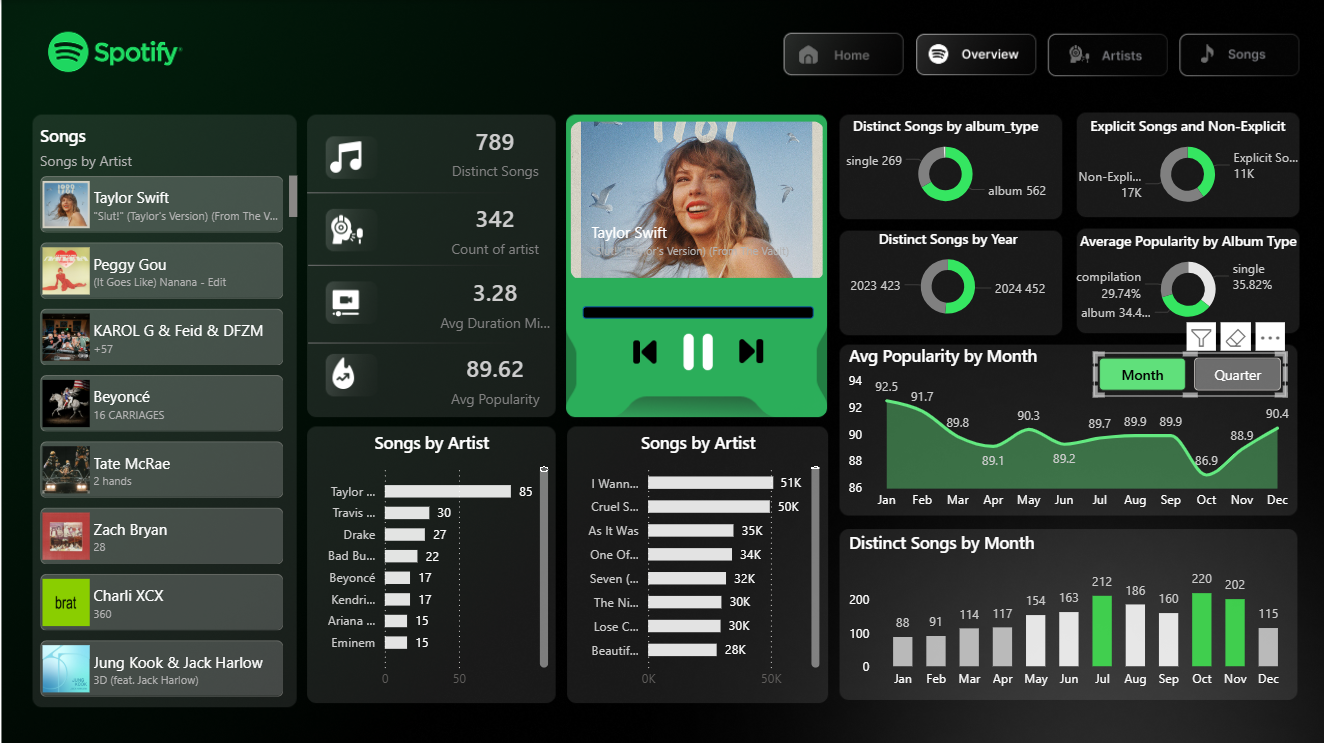

The dashboard page shown, as its layout file describes it:
{"tool":"powerbi","page":{"name":"Overview","canvas":[1280,720],"ordinal":0},"visuals":[{"type":"clusteredBarChart","title":"Songs by Artist","fields":{"Category":["Top-50-World.artist"],"Y":["_Measure.Distinct Songs"]},"box":[300.8,416.4,233.7,257.3],"z":0},{"type":"clusteredBarChart","title":"Songs by Artist","fields":{"Y":["Sum(Top-50-World.popularity)"],"Category":["Top-50-World.song"]},"box":[553.1,416.4,243.6,257.3],"z":1000},{"type":"areaChart","fields":{"Category":["Top-50-World.Month"],"Y":["_Measure.Avg Popularity"]},"box":[814.1,331.9,437.5,169],"z":2000},{"type":"advancedSlicerVisual","fields":{"Values":["Slicer.Slicer"]},"box":[1055.3,340.6,186.4,42.3],"z":3000},{"type":"donutChart","fields":{"Y":["_Measure.Distinct Songs"],"Category":["Top-50-World.album_type"]},"box":[793.8,112.2,237.7,94.1],"z":4000},{"type":"donutChart","title":"Explicit Songs and Non-Explicit","fields":{"Y":["_Measure.Explicit Songs","_Measure.Non-Explicit Songs"]},"box":[1031,111.9,229.8,94.8],"z":5000},{"type":"donutChart","fields":{"Y":["_Measure.Distinct Songs"],"Category":["Top-50-World.Year"]},"box":[796.3,220.8,237.7,94.1],"z":6000},{"type":"donutChart","title":"Average Popularity by Album Type","fields":{"Category":["Top-50-World.album_type"],"Y":["_Measure.Avg Popularity"]},"box":[1032.2,223.7,228.6,94.8],"z":7000},{"type":"columnChart","fields":{"Category":["Top-50-World.Month"],"Y":["_Measure.Distinct Songs"]},"box":[814.6,513.1,437.7,160.5],"z":8000},{"type":"card","fields":{"Values":["_Measure.Distinct Songs"]},"box":[419,112.2,117,68],"z":9000},{"type":"card","fields":{"Values":["_Measure.Avg Popularity"]},"box":[419,331.8,117,68],"z":10000},{"type":"card","fields":{"Values":["_Measure.Avg Duration Minutes"]},"box":[419,258.2,117,68],"z":11000},{"type":"card","fields":{"Values":["Count(Top-50-World.artist)"]},"box":[419,187,117,68],"z":12000},{"type":"image","box":[321,345,30,30],"z":13000},{"type":"image","box":[318.5,277.5,30,30],"z":14000},{"type":"image","box":[320,206,30,30],"z":15000},{"type":"image","box":[318,136,30.2,30.2],"z":16000},{"type":"advancedSlicerVisual","title":"Songs","fields":{"Values":["Top-50-World.song"]},"box":[32.6,115.8,259.4,568.2],"z":17000},{"type":"advancedSlicerVisual","title":"Songs","fields":{"Values":["Top-50-World.song"]},"box":[523.6,112.2,296.8,162.9],"z":18000},{"type":"image","box":[603.2,326.9,38.6,25.3],"z":19000},{"type":"shape","box":[562.2,295.6,223.2,12.1],"z":20000},{"type":"image","box":[586.3,325.7,277.5,26.5],"z":21000},{"type":"image","box":[644.2,322.1,59.1,35],"z":22000},{"type":"shape","box":[552.5,112.2,241.3,283.5],"z":23000},{"type":"actionButton","box":[757.6,31.4,113.4,39.8],"z":24000},{"type":"actionButton","box":[883.8,32.3,117,39.8],"z":25000},{"type":"actionButton","box":[1012.9,32.3,115.8,39.8],"z":26000},{"type":"actionButton","box":[1139.6,33.5,114.6,39.8],"z":27000}]}

Visuals, with their boxes in screenshot pixels (x1, y1, x2, y2), scaled from the page's 1280x720 canvas onto the 1324x743 screenshot:
"Songs by Artist" clusteredBarChart: BBox(311, 430, 553, 695)
"Songs by Artist" clusteredBarChart: BBox(572, 430, 824, 695)
areaChart - Top-50-World.Month x _Measure.Avg Popularity: BBox(842, 343, 1295, 517)
advancedSlicerVisual - Slicer.Slicer: BBox(1092, 351, 1284, 395)
donutChart - _Measure.Distinct Songs x Top-50-World.album_type: BBox(821, 116, 1067, 213)
"Explicit Songs and Non-Explicit" donutChart: BBox(1066, 115, 1304, 213)
donutChart - _Measure.Distinct Songs x Top-50-World.Year: BBox(824, 228, 1070, 325)
"Average Popularity by Album Type" donutChart: BBox(1068, 231, 1304, 329)
columnChart - Top-50-World.Month x _Measure.Distinct Songs: BBox(843, 529, 1295, 695)
card - _Measure.Distinct Songs: BBox(433, 116, 554, 186)
card - _Measure.Avg Popularity: BBox(433, 342, 554, 413)
card - _Measure.Avg Duration Minutes: BBox(433, 266, 554, 337)
card - Count(Top-50-World.artist): BBox(433, 193, 554, 263)
image: BBox(332, 356, 363, 387)
image: BBox(329, 286, 360, 317)
image: BBox(331, 213, 362, 244)
image: BBox(329, 140, 360, 172)
"Songs" advancedSlicerVisual: BBox(34, 119, 302, 706)
"Songs" advancedSlicerVisual: BBox(542, 116, 849, 284)
image: BBox(624, 337, 664, 363)
shape: BBox(582, 305, 812, 318)
image: BBox(606, 336, 893, 363)
image: BBox(666, 332, 727, 369)
shape: BBox(571, 116, 821, 408)
actionButton: BBox(784, 32, 901, 73)
actionButton: BBox(914, 33, 1035, 74)
actionButton: BBox(1048, 33, 1167, 74)
actionButton: BBox(1179, 35, 1297, 76)
